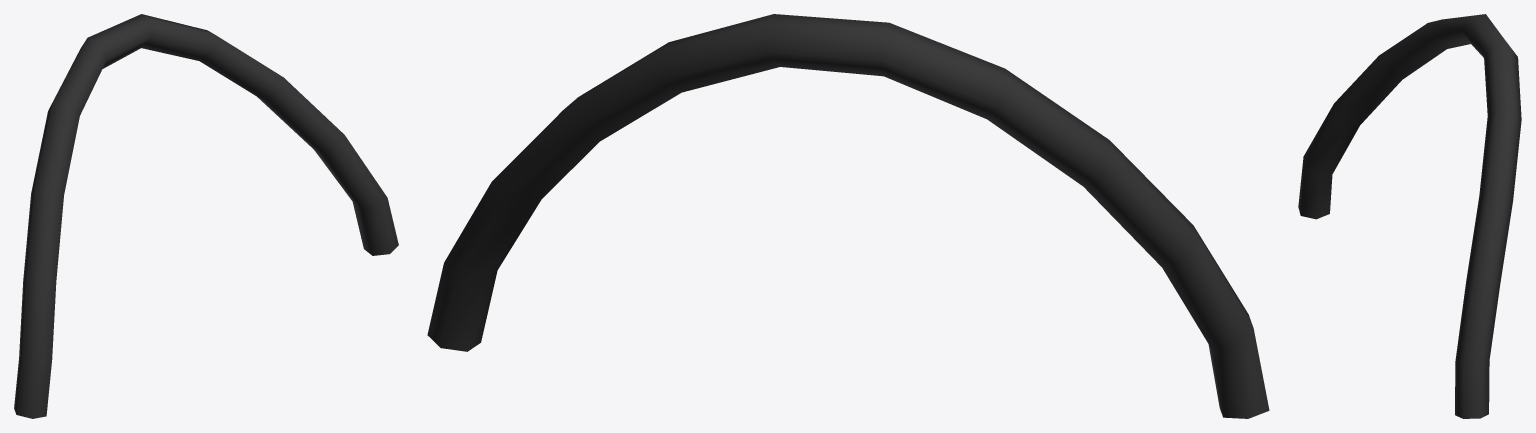
File: SM_Stage_Final_Wire_character_02.fbx
3 renders of one model, left to right at view 1: azimuth 30°, elevation 25°; view 2: azimuth 150°, elevation 25°; view 3: azimuth 270°, elevation 25°, orthographic. The views are drawn at different scales.
Parts seen in each view (by area): view 1: SM_Stage_Final_Wire_character_02; view 2: SM_Stage_Final_Wire_character_02; view 3: SM_Stage_Final_Wire_character_02.
Boxes of the visible parts, x1,y1,x2,y2 form: SM_Stage_Final_Wire_character_02: (14,14,398,418); SM_Stage_Final_Wire_character_02: (427,14,1269,418); SM_Stage_Final_Wire_character_02: (1298,14,1521,418).
Size of the model in its own units: 37.67 by 21.61 by 16.34.
1 material, 1 textured.
